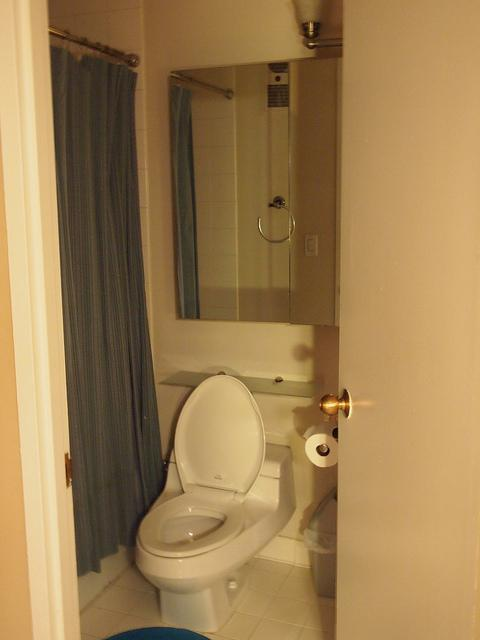Bote de Basura: (310, 481, 363, 595)
Ducha: (21, 39, 143, 618)
Sanitario: (134, 368, 301, 629)
